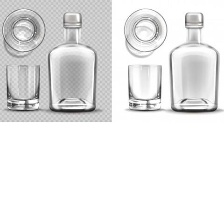bottle: (165, 10, 221, 114), (45, 10, 100, 114)
glass: (120, 4, 169, 57), (0, 4, 51, 54), (122, 59, 166, 114), (4, 59, 42, 115)
